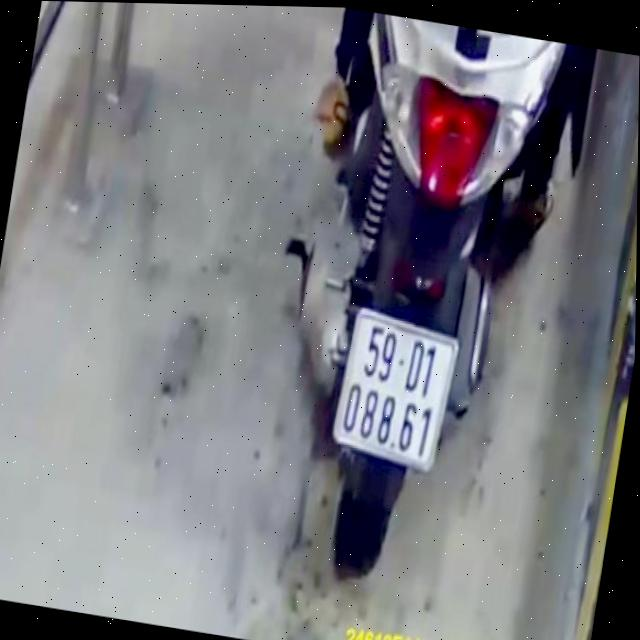motorcycle: (260, 13, 567, 608)
plate: (322, 299, 464, 481)
